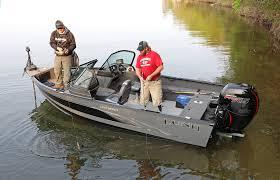fishing boat: (20, 14, 262, 150)
